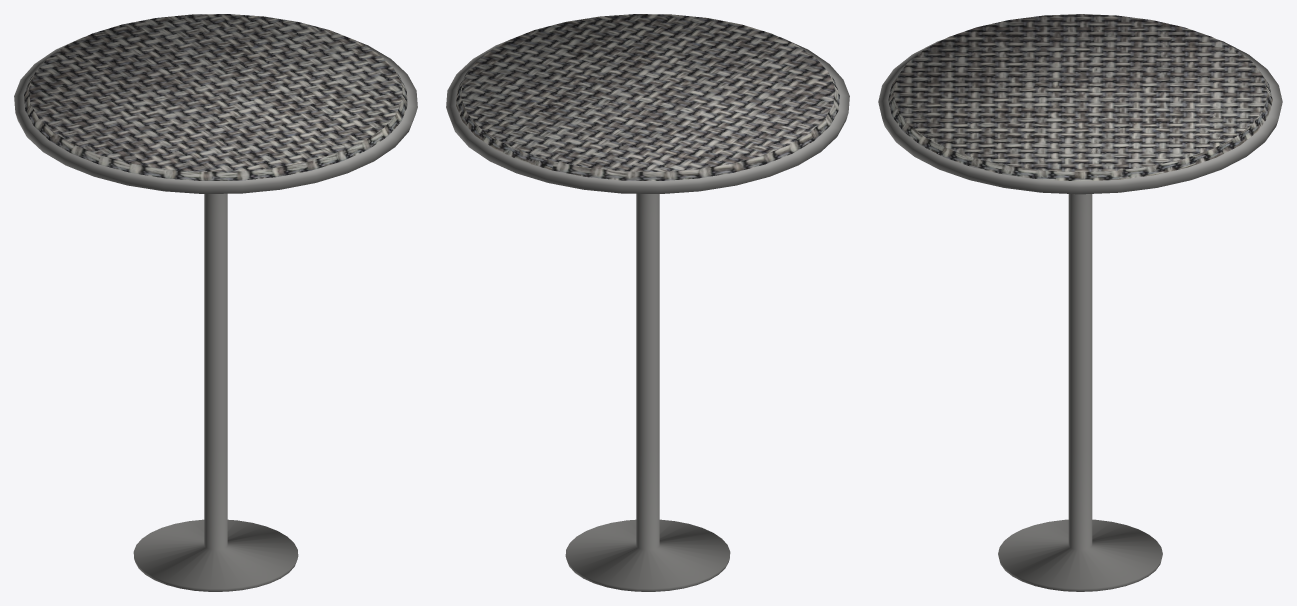
File: chair_future_metal.glb
The picture shows the model from 3 angles, left to right: view 1: azimuth 30°, elevation 25°; view 2: azimuth 150°, elevation 25°; view 3: azimuth 270°, elevation 25°; orthographic projection.
Visible parts, largest first — view 1: Cylinder; view 2: Cylinder; view 3: Cylinder.
Boxes of the visible parts, x1,y1,x2,y2 form: Cylinder: [14, 14, 417, 591]; Cylinder: [446, 14, 849, 591]; Cylinder: [878, 14, 1282, 591].
Size of the model in its own units: 0.7231 by 0.9161 by 0.7231.
Materials: 2 (1 with a texture image).
